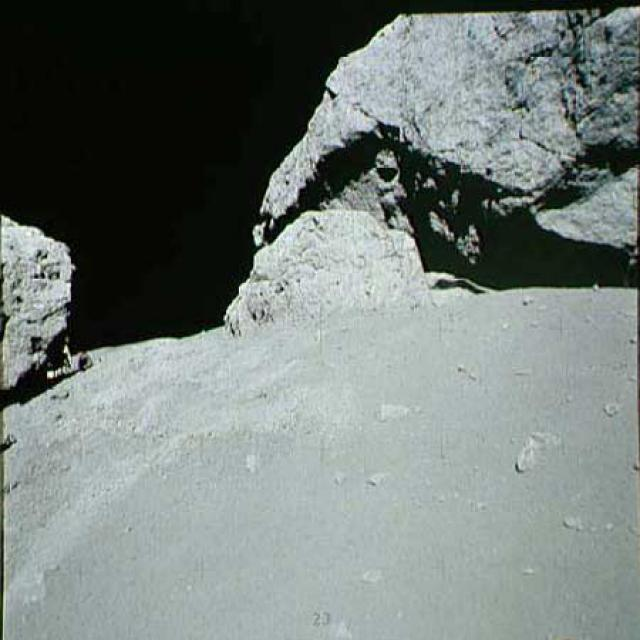rock: (209, 4, 639, 350), (0, 208, 98, 406)
